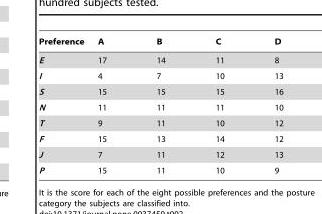table: (37, 36, 282, 174)
table column: (130, 36, 189, 174), (189, 36, 248, 174), (37, 36, 90, 174), (90, 36, 130, 174), (248, 36, 282, 174)
table column header: (37, 36, 282, 50)
table row: (37, 50, 282, 67), (37, 67, 282, 83), (37, 83, 282, 99), (37, 99, 282, 115), (37, 130, 282, 146), (37, 146, 282, 162), (37, 115, 282, 130), (37, 36, 282, 50), (37, 162, 282, 174)
